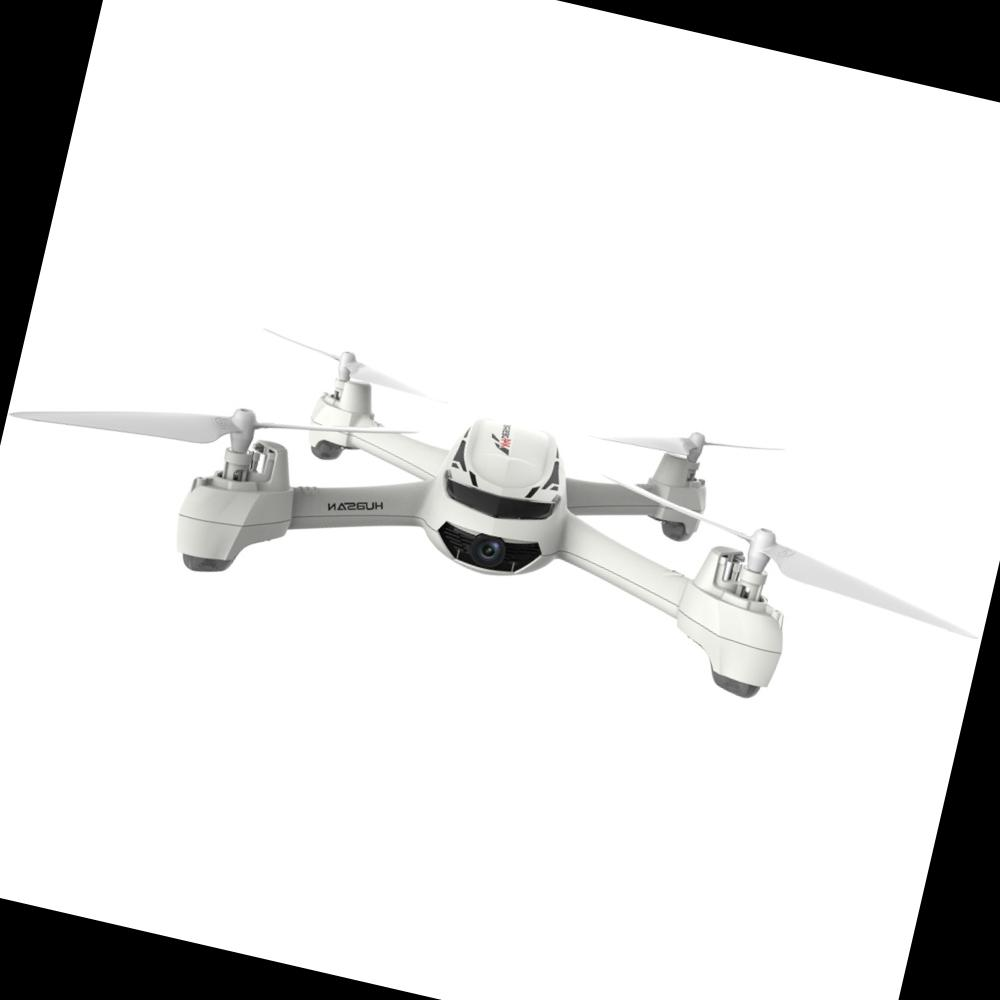drone: (12, 275, 914, 753)
